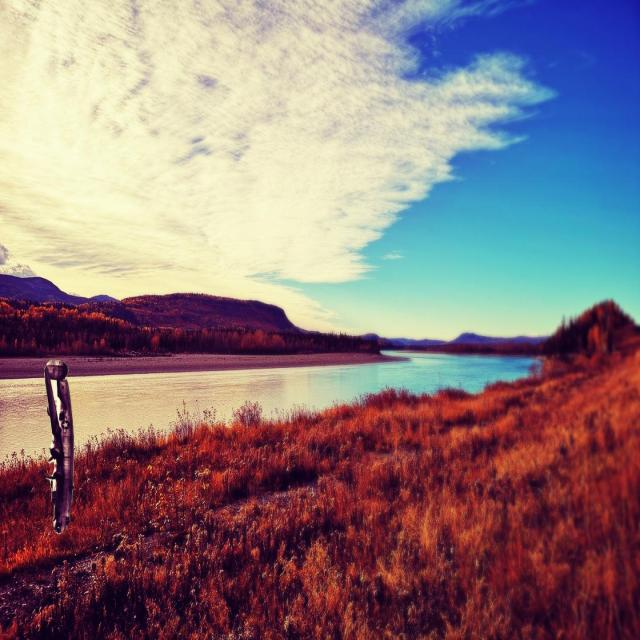airplane: (44, 360, 72, 534)
